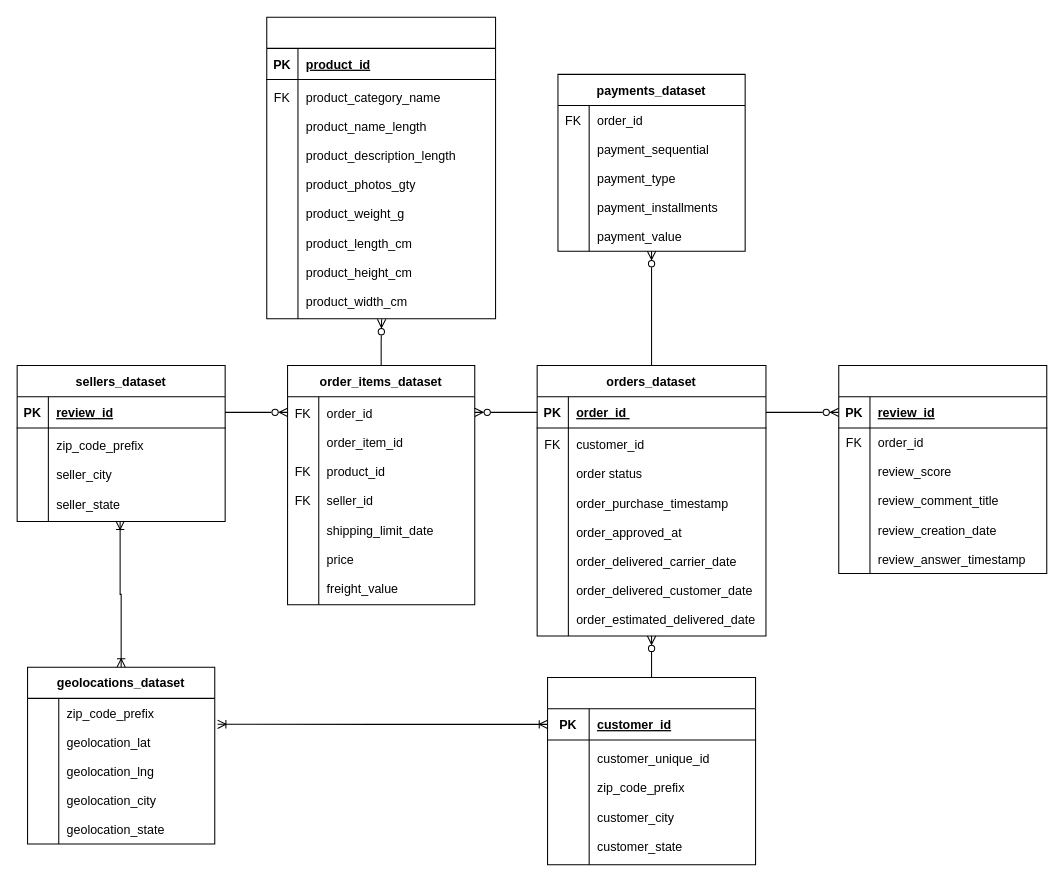
Some shapes in this 1064 by 882 pixel diagram are drawn without their labels. Each missing label, with the box of its shape:
customers_dataset: (547, 677, 756, 865)
products_dataset: (266, 16, 496, 319)
reviews_dataset: (838, 365, 1047, 574)
